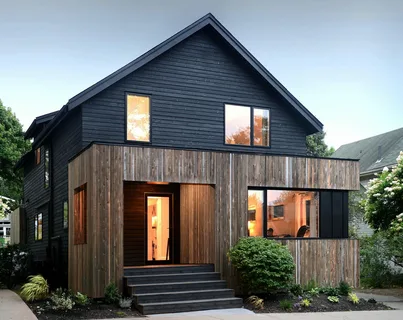private_hause: (51, 32, 345, 272)
